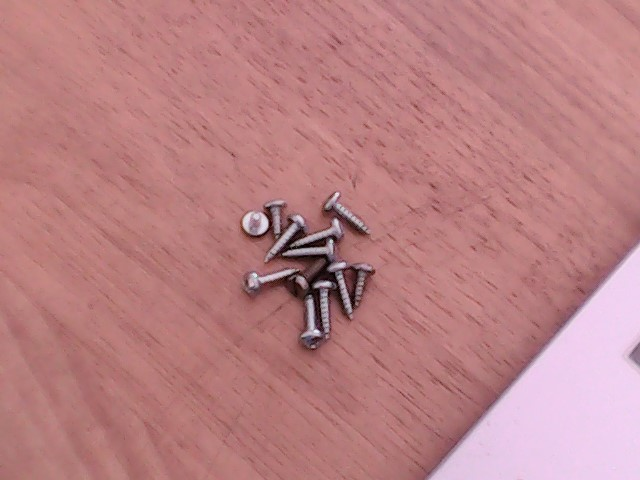Metal: (236, 180, 384, 355)
